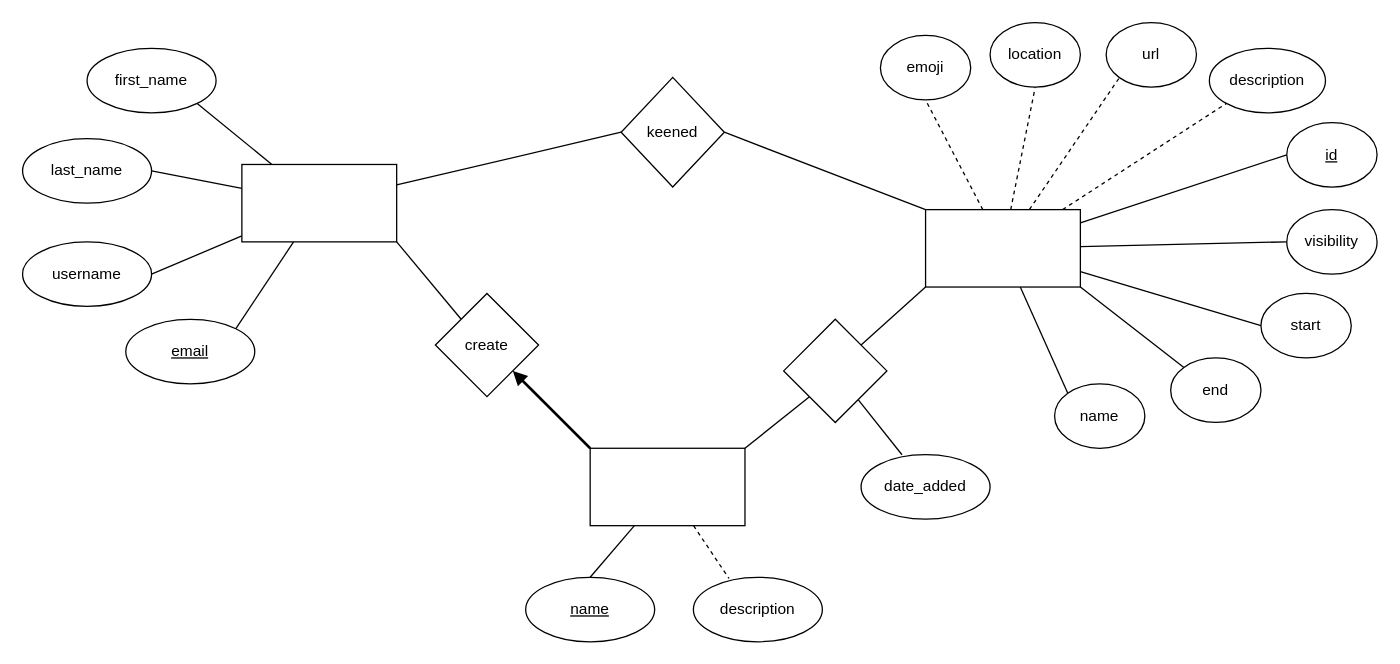
This 1400x664 diagram has some shape labels left out. Each missing label, with the centre of its shape:
Collection: point (667, 486)
contains: point (834, 370)
Event: point (1002, 247)
User: point (319, 202)
